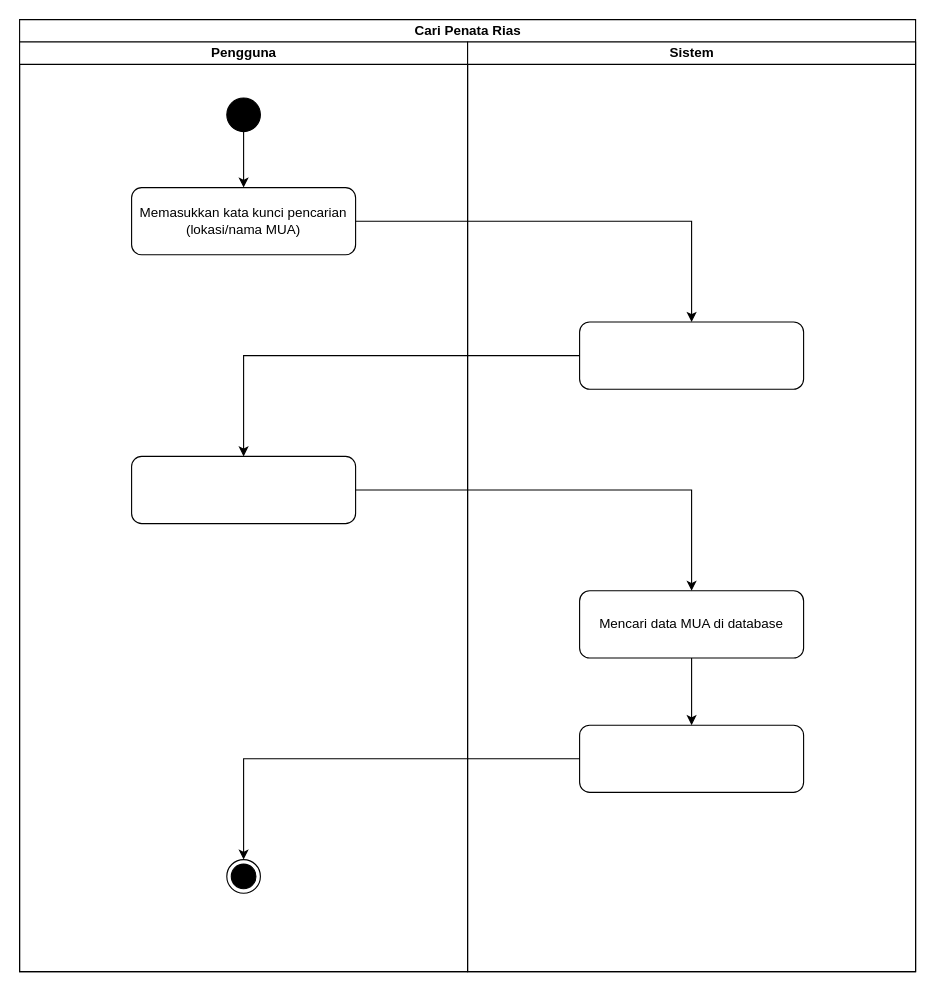
The diagram is 935 pixels wide and 991 high, and some of its shapes have lost their labels. The shapes that lost their labels are listed below. From the top down, each one's centre as x and y in pixels, then its label:
the point at 691,355: Menerima input pencarian
the point at 243,489: Klik tombol cari
the point at 691,758: Menampilkan hasil pencarian
